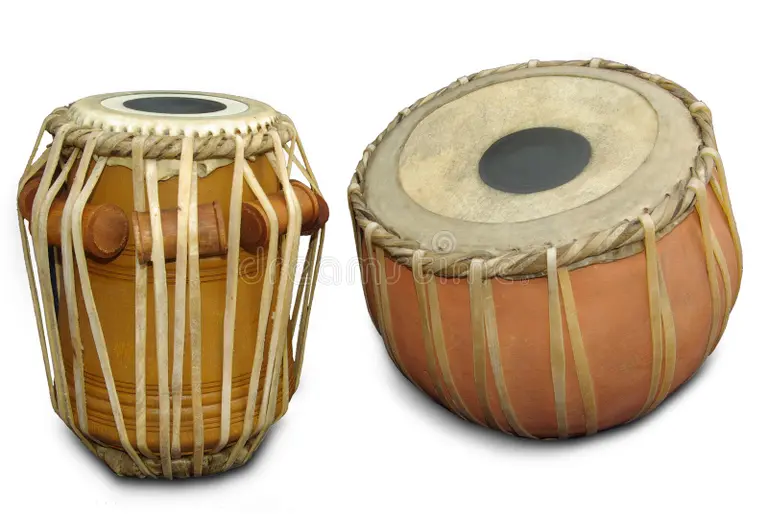tabla: (346, 55, 743, 439), (23, 89, 328, 485)
